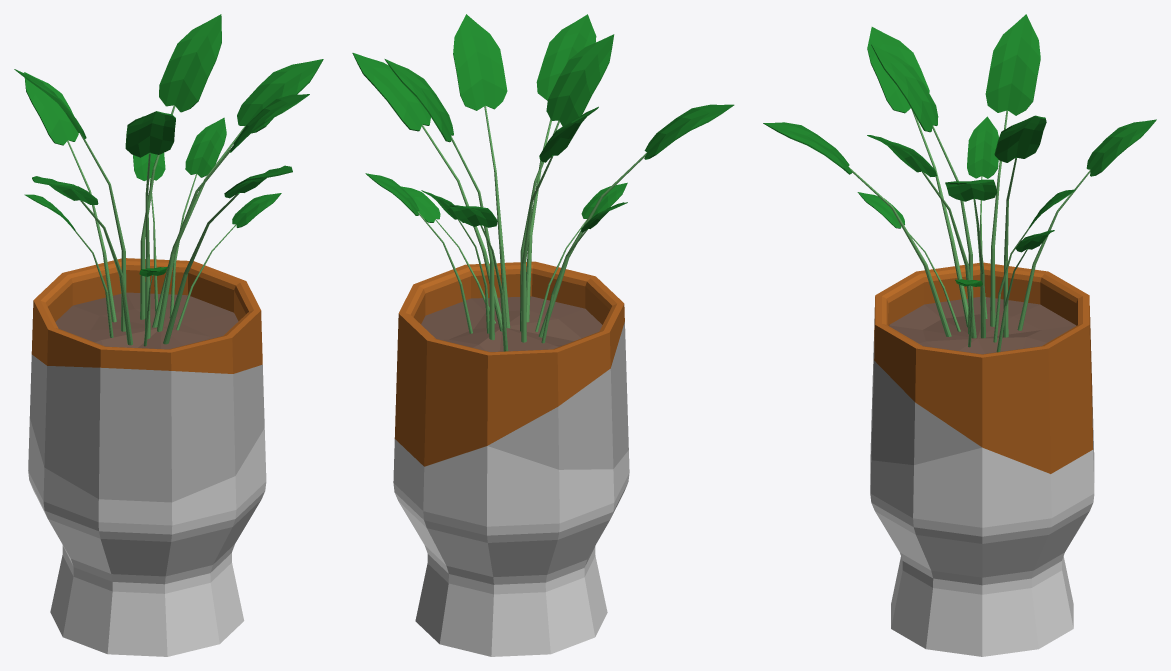
The model's file is FlowerPot.fbx.
The picture shows the model from 3 angles, left to right: view 1: azimuth 30°, elevation 25°; view 2: azimuth 150°, elevation 25°; view 3: azimuth 270°, elevation 25°; orthographic projection.
Visible parts, largest first — view 1: FlowerPot; view 2: FlowerPot; view 3: FlowerPot.
Part boxes in pixels (x1,y1,x2,y2): FlowerPot: (14, 14, 323, 656); FlowerPot: (352, 14, 734, 656); FlowerPot: (763, 14, 1156, 656).
Size of the model in its own units: 68 by 108 by 69.88.
